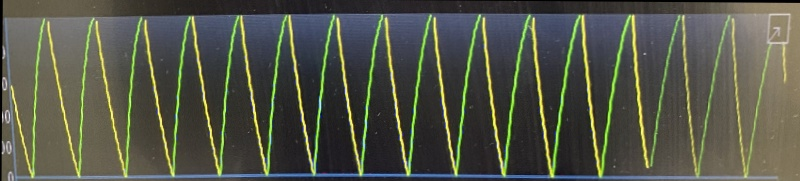normal_volume: (18, 10, 749, 181)
